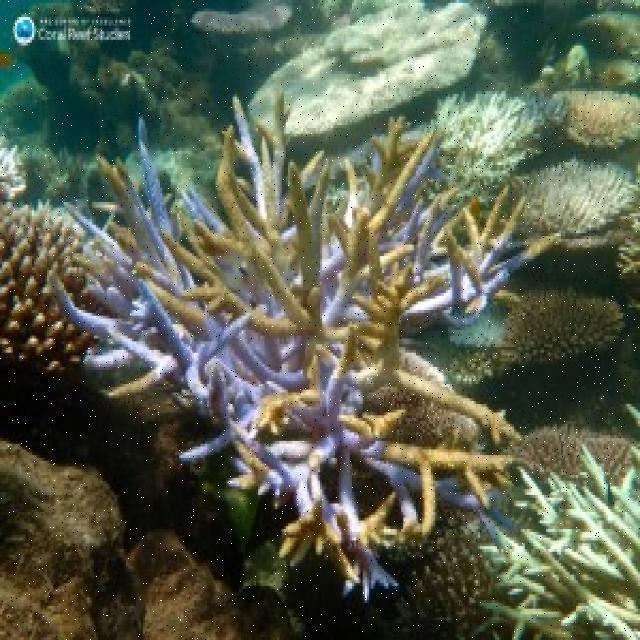Bleached: (251, 1, 486, 135), (73, 289, 314, 406), (512, 468, 640, 640), (401, 207, 498, 329), (444, 89, 530, 182), (519, 166, 633, 231), (188, 3, 296, 39), (1, 129, 31, 203)
Healthy: (4, 451, 240, 640), (20, 6, 207, 130), (1, 210, 91, 373), (503, 285, 637, 373), (376, 389, 514, 471), (401, 547, 507, 639), (519, 404, 636, 472), (552, 76, 640, 144), (174, 223, 254, 282)
